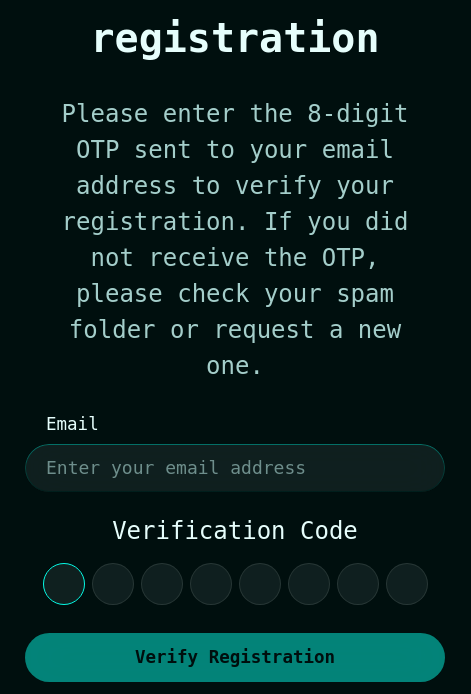
Test: VerifyRegistrationPage › blocks resending verification code for non-registered users
Type "ghost@example.com" into the field with placeholder "Enter your email address" at x=235, y=468, box [46,454,424,481]
(page scrolled)
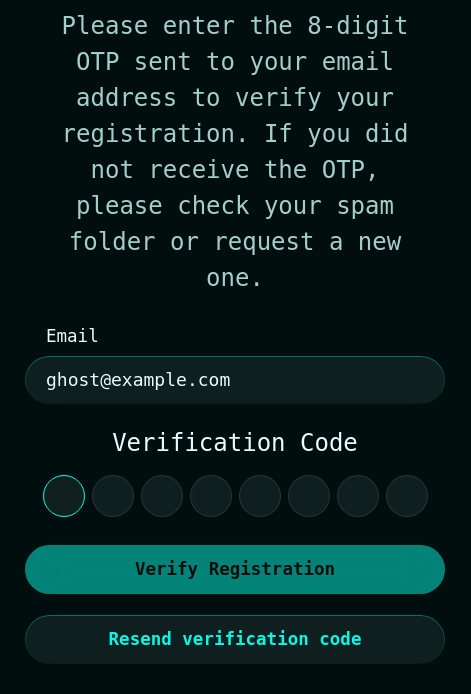
Click the button "Resend verification code" at x=235, y=639, box [25,615,445,664]
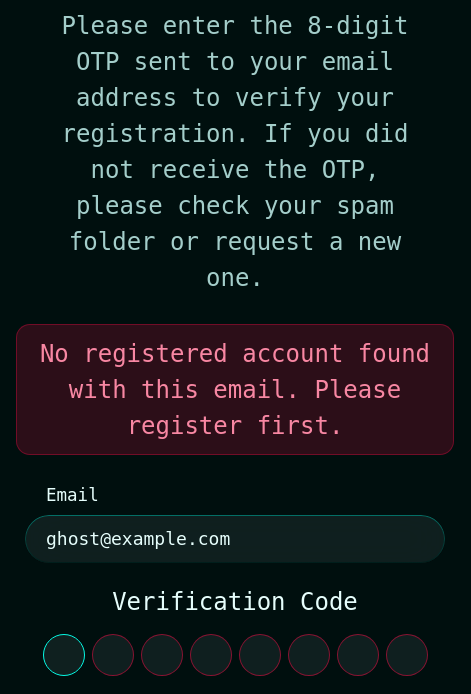
Now the message shows "No registered account found with this email", box [40,340,430,440]
